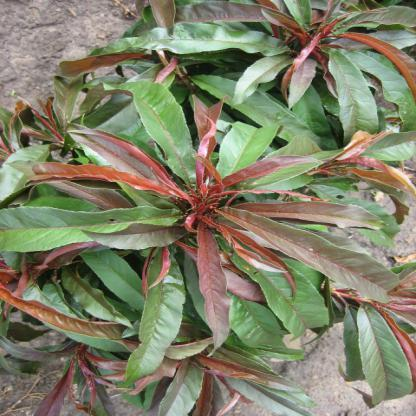Peach leaf: (222, 206, 402, 304), (90, 79, 196, 188), (211, 248, 331, 344), (1, 204, 182, 258), (121, 256, 190, 389), (86, 20, 308, 61), (349, 300, 415, 414), (200, 121, 291, 190), (215, 291, 304, 360), (325, 42, 381, 146)
